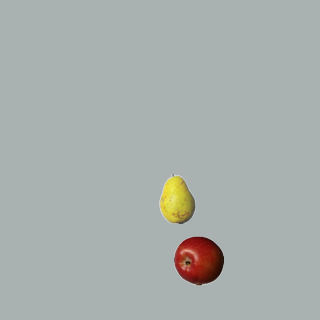Apple Braeburn: (173, 235, 223, 285)
Pear Monster: (152, 173, 202, 223)
